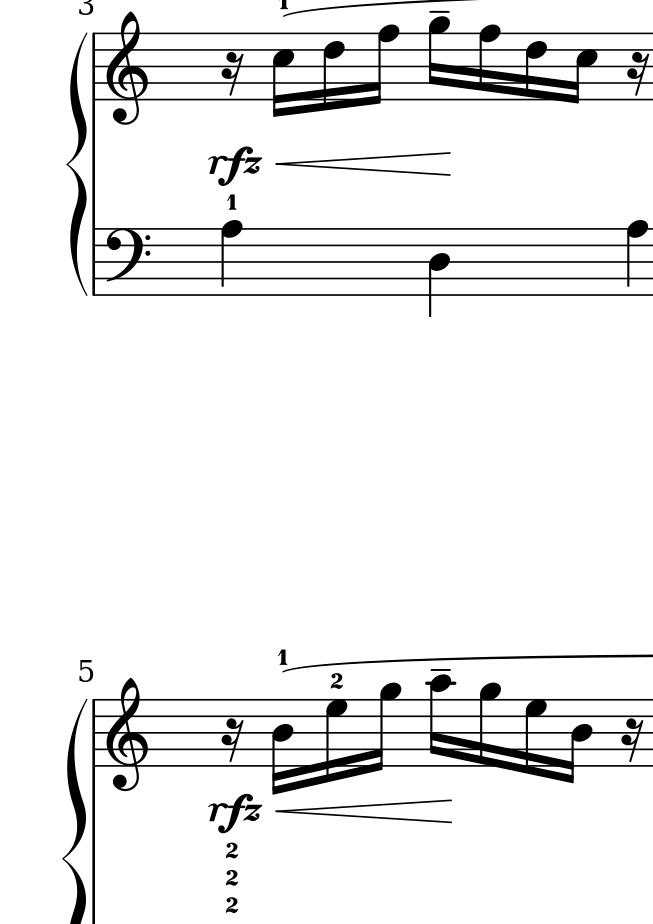16_10: (427, 672, 457, 766)
16_4: (564, 696, 594, 786), (270, 697, 295, 797)
16_5: (567, 31, 599, 106), (269, 31, 295, 120)
16_6: (321, 30, 346, 113), (524, 30, 548, 103)
16_7: (323, 696, 350, 786), (523, 696, 547, 779)
16_8: (367, 24, 399, 106), (477, 24, 501, 102)
16_9: (369, 681, 403, 772), (426, 13, 448, 107), (478, 681, 500, 770)
4_4: (427, 226, 451, 317)
4_8: (219, 218, 243, 297)
5: (78, 657, 94, 684)
8_8: (625, 218, 650, 297)
Brace: (67, 31, 90, 298)
Crescendo_hairpin: (276, 796, 453, 827), (274, 149, 452, 179)
Fclef: (102, 226, 149, 297)
Gclef: (103, 6, 150, 129), (104, 672, 150, 796)
Rests16: (220, 718, 245, 764), (221, 51, 245, 97), (627, 50, 650, 96), (621, 718, 644, 763)
Single_barline: (88, 33, 102, 99), (88, 700, 102, 765), (89, 228, 102, 295)
rfz: (207, 142, 264, 186), (204, 789, 261, 833)
